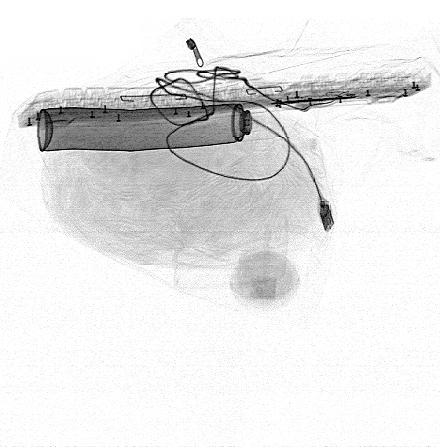Sprayer: (36, 100, 279, 153)
